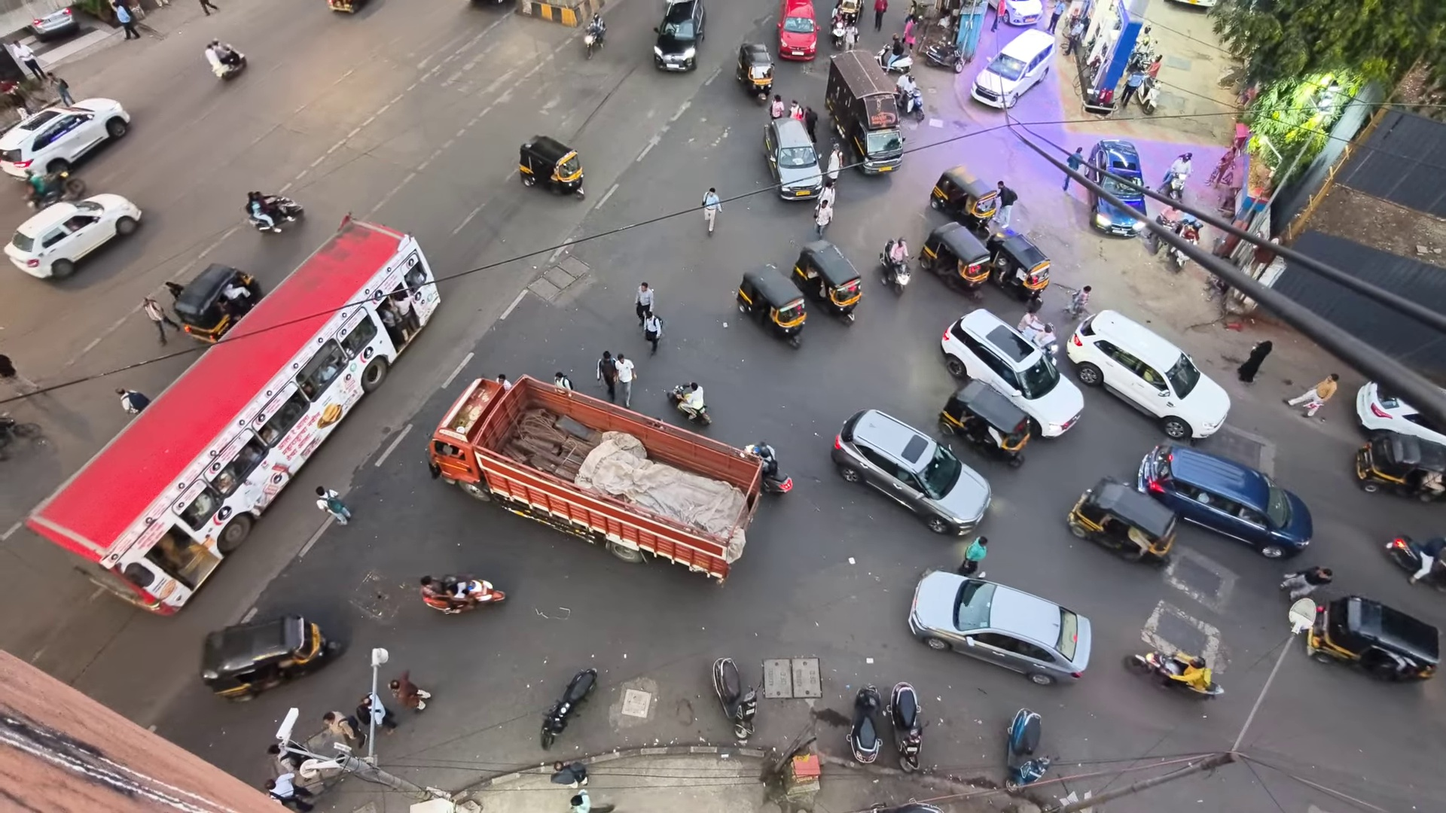driving: (27, 218, 439, 614), (429, 376, 761, 580), (1065, 310, 1229, 440), (908, 571, 1092, 684), (1137, 444, 1313, 558), (831, 410, 991, 534), (941, 309, 1083, 437), (200, 614, 343, 699), (5, 193, 141, 279), (1307, 595, 1438, 681), (0, 99, 129, 178), (1066, 478, 1177, 565), (825, 50, 903, 173), (939, 380, 1030, 466), (173, 263, 263, 343), (971, 29, 1054, 108), (1354, 431, 1445, 501), (792, 239, 861, 324), (737, 266, 807, 348), (918, 222, 991, 300), (1087, 139, 1145, 236), (1356, 382, 1445, 445), (930, 165, 999, 238), (985, 227, 1051, 300), (764, 117, 822, 199), (540, 668, 597, 749), (1125, 651, 1223, 698), (518, 135, 584, 198), (712, 658, 757, 741), (1005, 709, 1051, 790), (886, 681, 926, 772), (654, 0, 705, 70), (1383, 534, 1445, 590), (420, 575, 505, 614), (847, 685, 882, 763), (743, 442, 792, 493), (777, 0, 817, 59), (736, 43, 773, 102), (27, 6, 80, 41), (878, 239, 911, 294), (988, 0, 1044, 26), (923, 40, 965, 73)
walking: (1285, 373, 1338, 416), (264, 772, 313, 812), (1280, 566, 1332, 601), (142, 297, 180, 344), (1408, 537, 1445, 583), (389, 671, 431, 711), (1237, 340, 1273, 383), (322, 711, 365, 747), (355, 694, 395, 732), (0, 354, 38, 392), (316, 486, 351, 525), (12, 41, 44, 81), (956, 536, 987, 576), (994, 181, 1017, 229), (596, 351, 617, 401), (1118, 69, 1144, 109), (267, 744, 303, 772), (615, 353, 634, 406), (113, 0, 139, 38), (570, 790, 614, 812), (551, 762, 587, 787), (702, 187, 721, 234), (115, 388, 149, 414), (47, 73, 74, 105), (643, 311, 663, 354), (1064, 15, 1085, 54), (635, 282, 654, 325), (1066, 285, 1091, 317), (1047, 0, 1068, 33), (826, 142, 842, 182), (816, 199, 832, 236), (803, 106, 818, 143), (903, 17, 916, 52), (1066, 147, 1084, 171), (819, 181, 836, 206), (163, 281, 185, 300), (844, 23, 859, 50), (874, 0, 887, 31), (770, 94, 785, 119), (554, 372, 573, 390), (789, 99, 803, 121), (496, 374, 512, 391), (200, 0, 218, 15)
